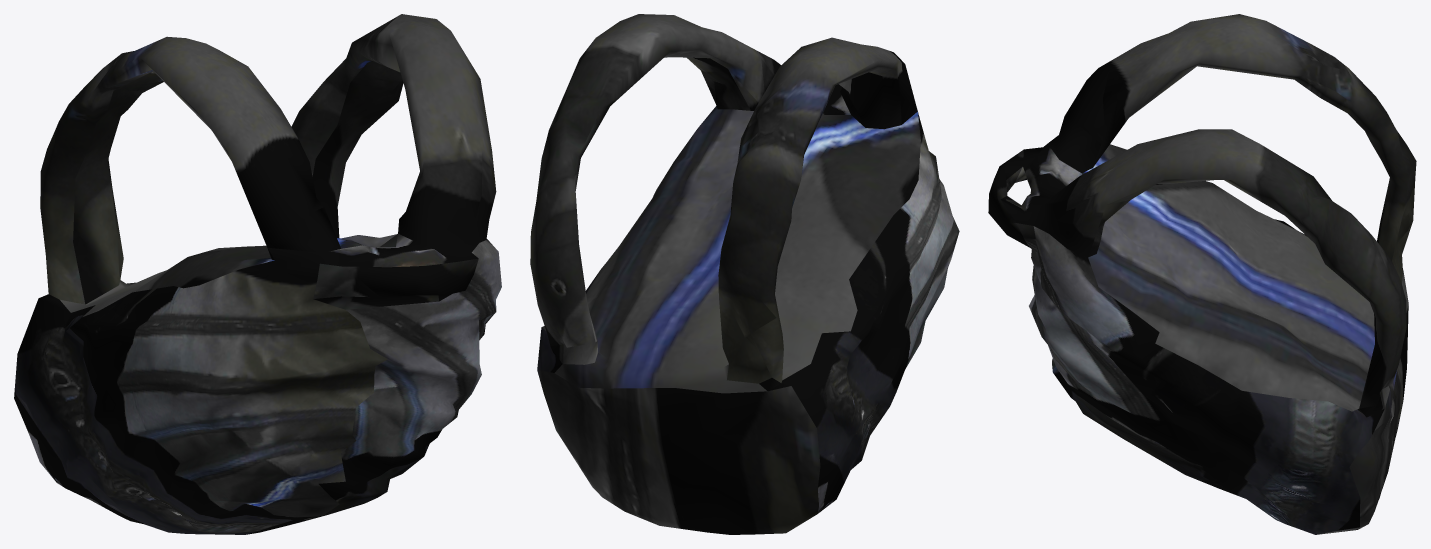
The model's file is Backpack.glb.
3 views of the same model, side by side, from view 1: azimuth 30°, elevation 25°; view 2: azimuth 150°, elevation 25°; view 3: azimuth 270°, elevation 25° (orthographic). The views are drawn at different scales.
Parts seen in each view (by area): view 1: Backpack; view 2: Backpack; view 3: Backpack.
Boxes of the visible parts, left/top/right/bottom form: Backpack: left=14, top=14, right=501, bottom=534; Backpack: left=530, top=14, right=959, bottom=534; Backpack: left=988, top=14, right=1416, bottom=534.
Bounding box in the file's own units: 4.71 × 6.61 × 5.65.
Materials: 1 (1 with a texture image).
